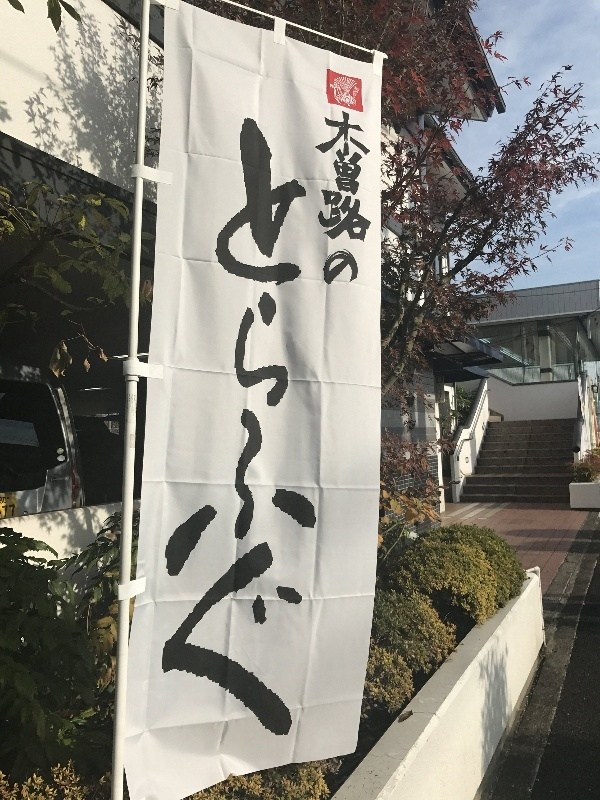text: (193, 102, 208, 747), (209, 102, 224, 747), (225, 102, 240, 747), (241, 102, 256, 747), (257, 102, 272, 747), (273, 102, 288, 747), (289, 102, 304, 747), (305, 102, 320, 747), (321, 103, 336, 292), (337, 103, 352, 292), (353, 103, 368, 292), (321, 102, 325, 747), (369, 103, 374, 292), (317, 103, 320, 292), (2, 503, 16, 520), (1, 494, 16, 506)
